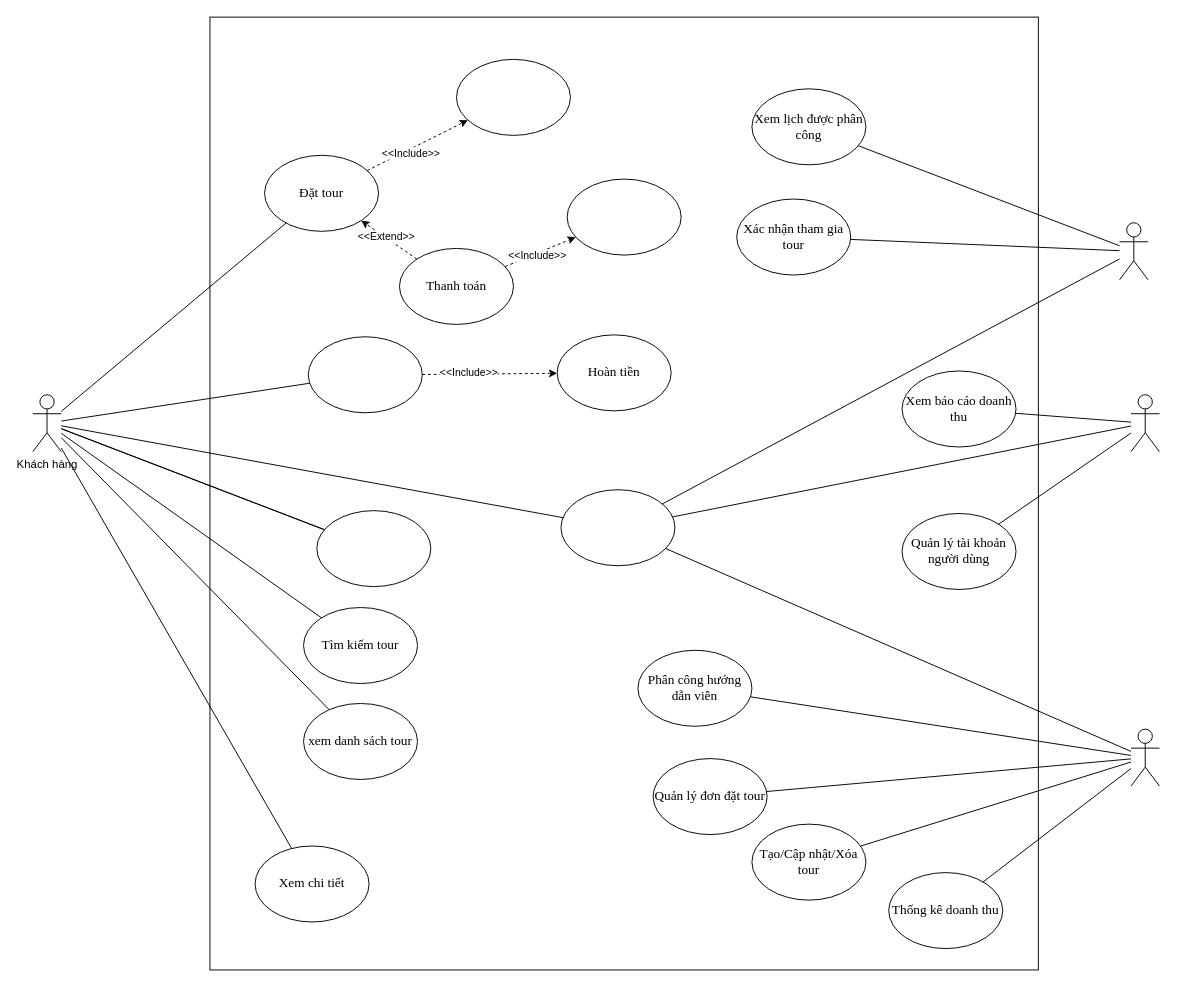
This 1191x986 diagram has some shape labels left out. Each missing label, with the centre of its shape:
"Hướng dẫn viên" goes at (1133,251).
"Kiểm tra dữ liệu" goes at (513,96).
"Nhân viên" goes at (1144,757).
"Quản lý" goes at (1144,423).
"Xem lịch sử tour" goes at (373,548).
"Xử lý thanh toán" goes at (623,216).
"Yêu cầu hủy đổi" goes at (364,374).
"Đăng nhập" goes at (617,527).
